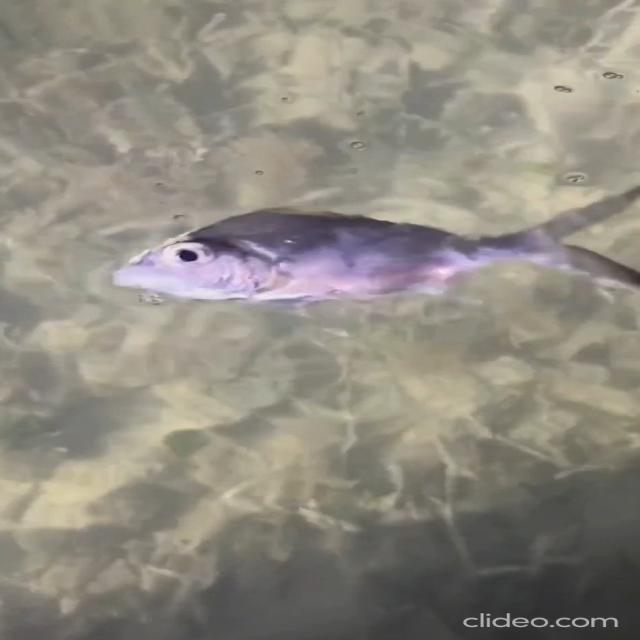fish: (90, 180, 640, 316)
